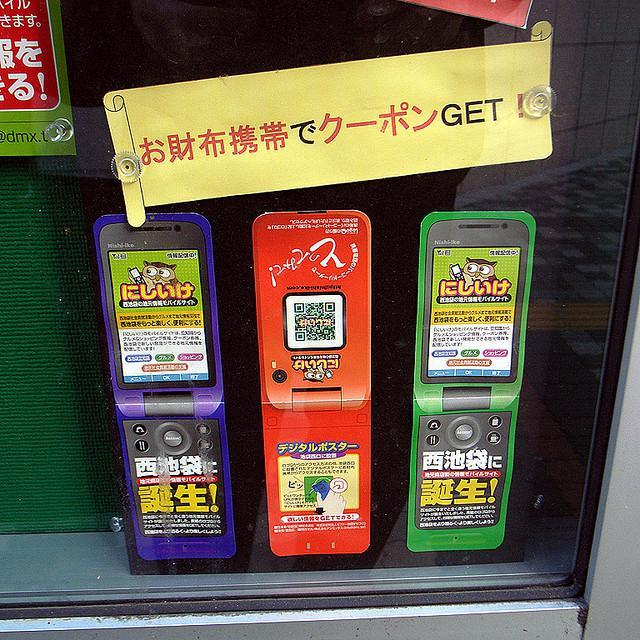qr_code: (294, 302, 335, 341)
